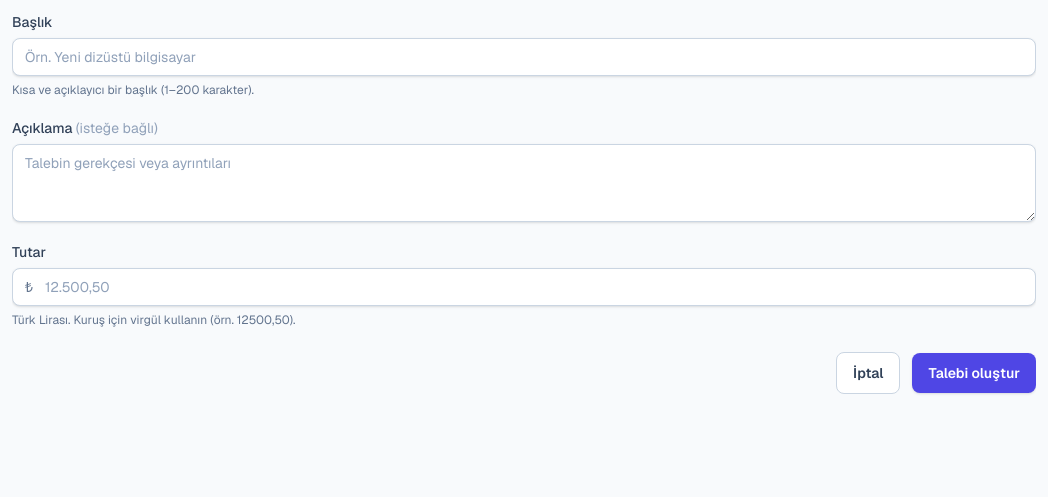
it: PurchaseRequestForm › tutar alan hatasını (server action'dan) gösterir
In the field labelled "Başlık": (524, 57) [12,38,1036,76], type "Talep"
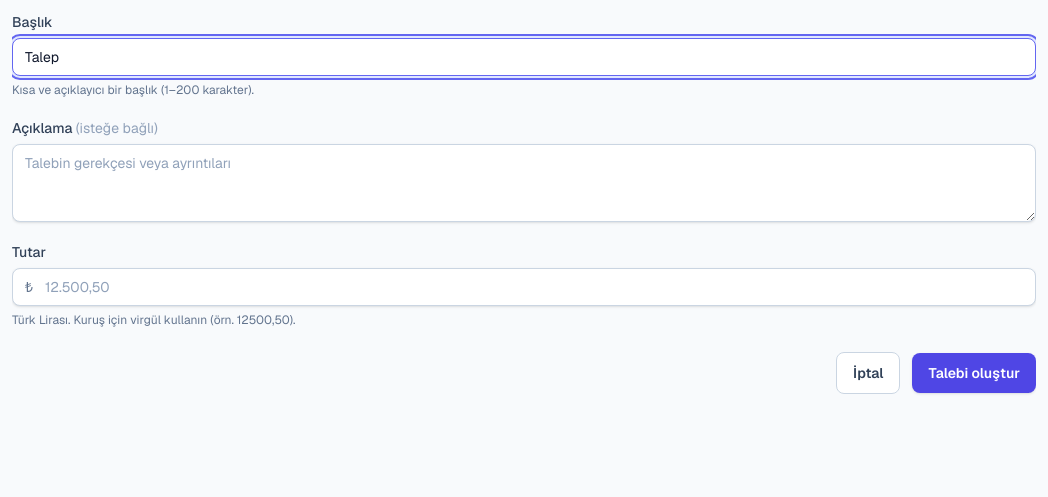
In the field labelled "Tutar": (536, 287) [37,269,1035,305], type "0"
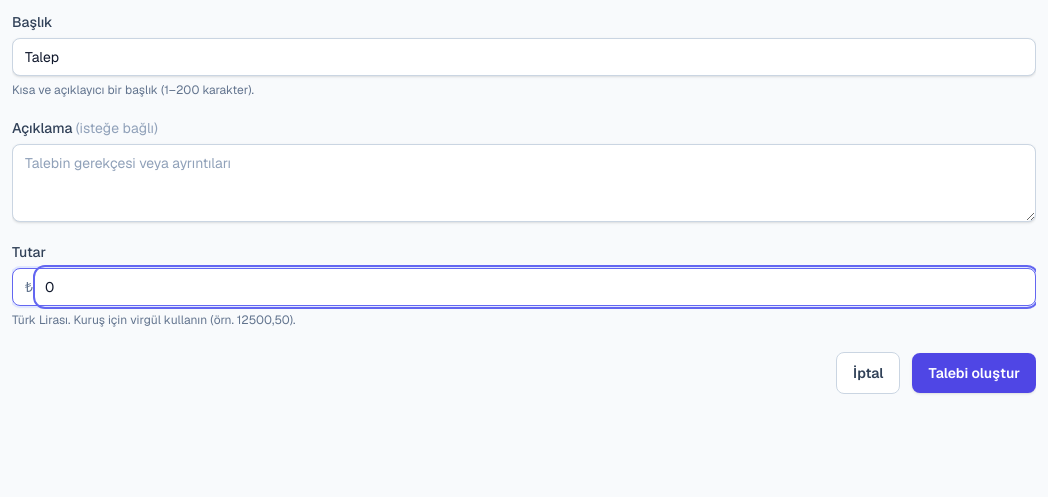
Click the button "Talebi oluştur": click(974, 373) [912,353,1036,393]
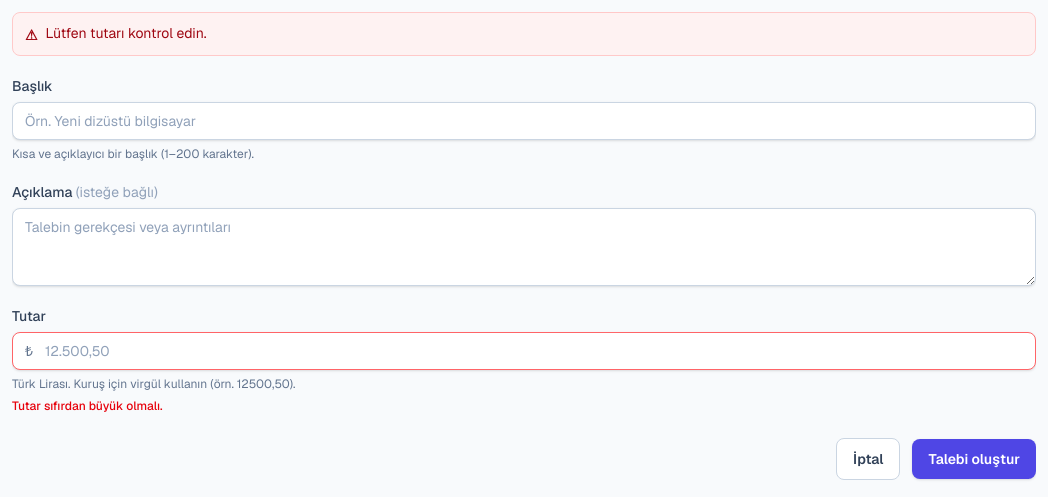
Expected: the text "Tutar sıfırdan büyük olmalı." is shown, [12,398,163,414]
